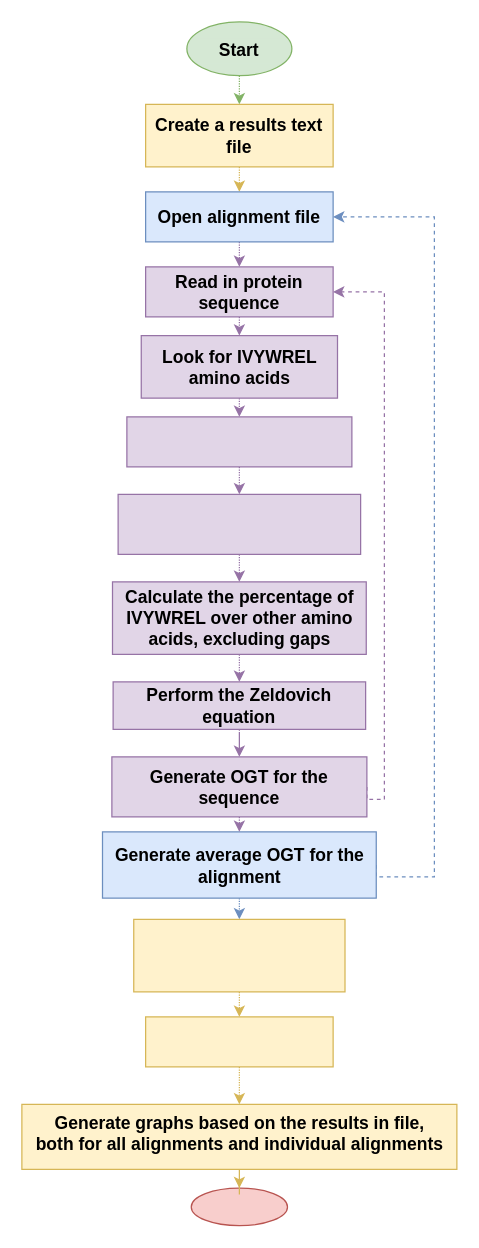
Image size: 479x1248. Some labels were removed from this diagram. The shapes that lost their labels are listed below. From the top down, each one's centre as x and y in pixels, then its label:
At (x=239, y=441): "Look for other amino acids".
At (x=239, y=523): "Look for gaps in the sequences".
At (x=238, y=955): "Generate average OGTs for the entire proteome".
At (x=238, y=1041): "Print results to file".
At (x=239, y=1206): "End".
